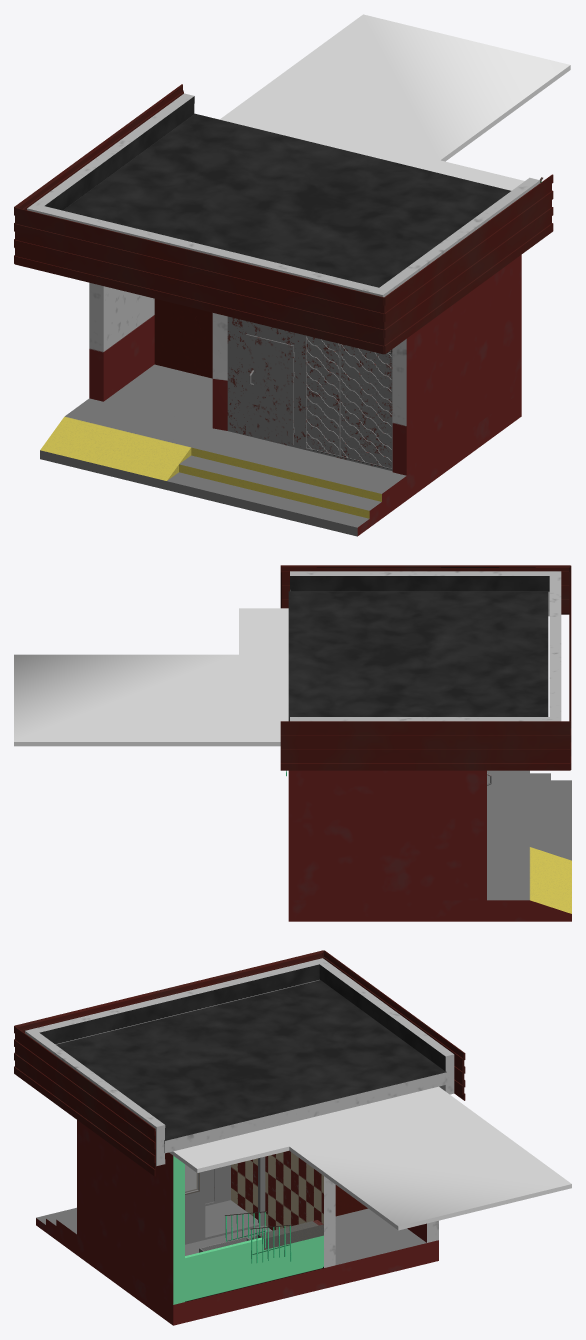
File: Entrance_27_for_cave.fbx
3 views of the same model, one above another, from view 1: azimuth 30°, elevation 25°; view 2: azimuth 150°, elevation 25°; view 3: azimuth 270°, elevation 25° (orthographic). The views are drawn at different scales.
Parts seen in each view (by area): view 1: Entrance_roof_metal.004, Entrance_roof.004, Entrance_fundament.004, Cube.002, Entrance_right_side.004, Entrance_face.004, Entrance_left_side.004, Entrance_door.004, Entrance_garbage_door.004, Cylinder.037, Entrance_center.004; view 2: Entrance_roof.004, Cube.002, Entrance_left_side.004, Entrance_roof_metal.004, Entrance_fundament.004; view 3: Entrance_roof.004, Cube.002, Entrance_roof_metal.004, Entrance_fundament.004, Entrance_right_side.004, Entrance_center.004, Cube.001, Entrance_face.001, Stairs.016, Entrance_face.004, Entrance_door.004, Entrance_garbage_door.004 (+1 smaller).
Part boxes in pixels (left/top/right/bottom): Entrance_roof_metal.004: left=14, top=84, right=553, bottom=354; Entrance_roof.004: left=63, top=113, right=510, bottom=287; Entrance_fundament.004: left=40, top=364, right=521, bottom=536; Cube.002: left=220, top=14, right=570, bottom=190; Entrance_right_side.004: left=392, top=255, right=521, bottom=475; Entrance_face.004: left=227, top=316, right=392, bottom=471; Entrance_left_side.004: left=89, top=282, right=154, bottom=401; Entrance_door.004: left=246, top=334, right=294, bottom=445; Entrance_garbage_door.004: left=154, top=298, right=212, bottom=378; Cylinder.037: left=305, top=335, right=392, bottom=469; Entrance_center.004: left=212, top=313, right=227, bottom=430; Entrance_roof.004: left=288, top=591, right=548, bottom=721; Cube.002: left=14, top=608, right=288, bottom=746; Entrance_left_side.004: left=288, top=770, right=486, bottom=900; Entrance_roof_metal.004: left=280, top=565, right=571, bottom=770; Entrance_fundament.004: left=288, top=770, right=571, bottom=921; Entrance_roof.004: left=56, top=980, right=447, bottom=1153; Cube.002: left=169, top=1086, right=571, bottom=1230; Entrance_roof_metal.004: left=14, top=950, right=465, bottom=1176; Entrance_fundament.004: left=36, top=1200, right=438, bottom=1325; Entrance_right_side.004: left=77, top=1120, right=184, bottom=1304; Entrance_center.004: left=231, top=1150, right=335, bottom=1267; Cube.001: left=185, top=1235, right=323, bottom=1301; Entrance_face.001: left=185, top=1156, right=265, bottom=1244; Stairs.016: left=250, top=1220, right=323, bottom=1249; Entrance_face.004: left=205, top=1165, right=230, bottom=1206; Entrance_door.004: left=185, top=1164, right=214, bottom=1203; Entrance_garbage_door.004: left=335, top=1185, right=367, bottom=1216.
Size of the model in its own units: 1270 by 494 by 1219.
